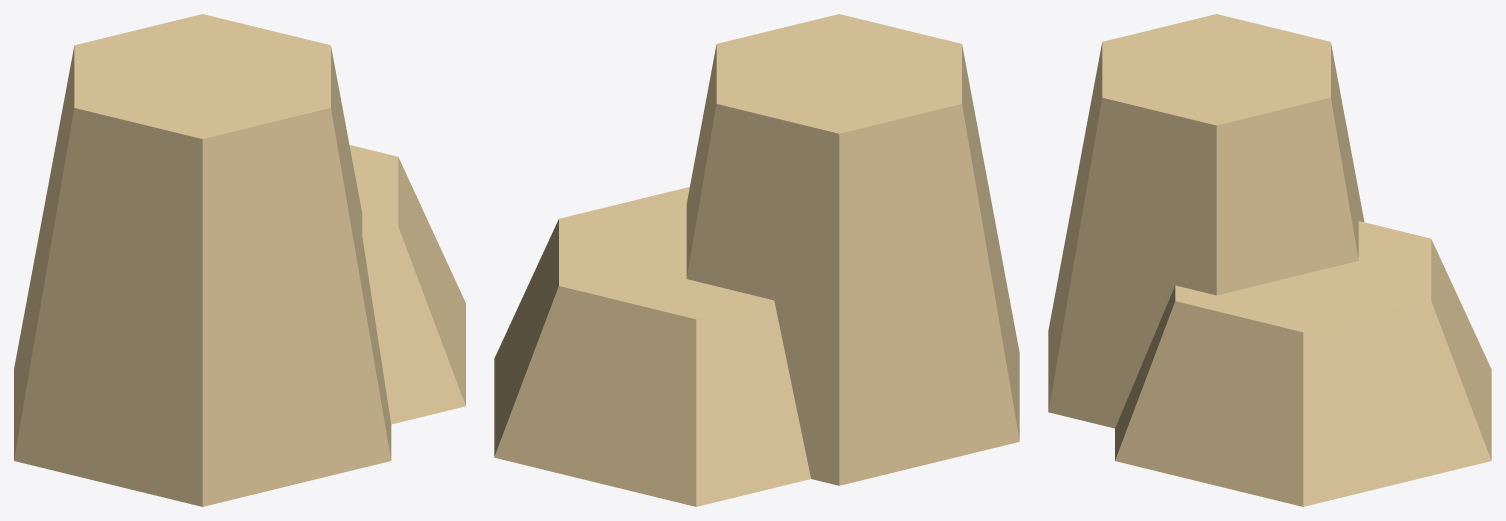
The model's file is rock1.fbx.
The picture shows the model from 3 angles, left to right: view 1: azimuth 30°, elevation 25°; view 2: azimuth 150°, elevation 25°; view 3: azimuth 270°, elevation 25°; orthographic projection. The views are drawn at different scales.
Visible parts, largest first — view 1: resourceStone.001; view 2: resourceStone.001; view 3: resourceStone.001.
Boxes of the visible parts, x1,y1,x2,y2 form: resourceStone.001: (14,14,465,506); resourceStone.001: (494,14,1019,506); resourceStone.001: (1048,14,1491,506).
Bounding box in the file's own units: 199 × 129 × 171.
